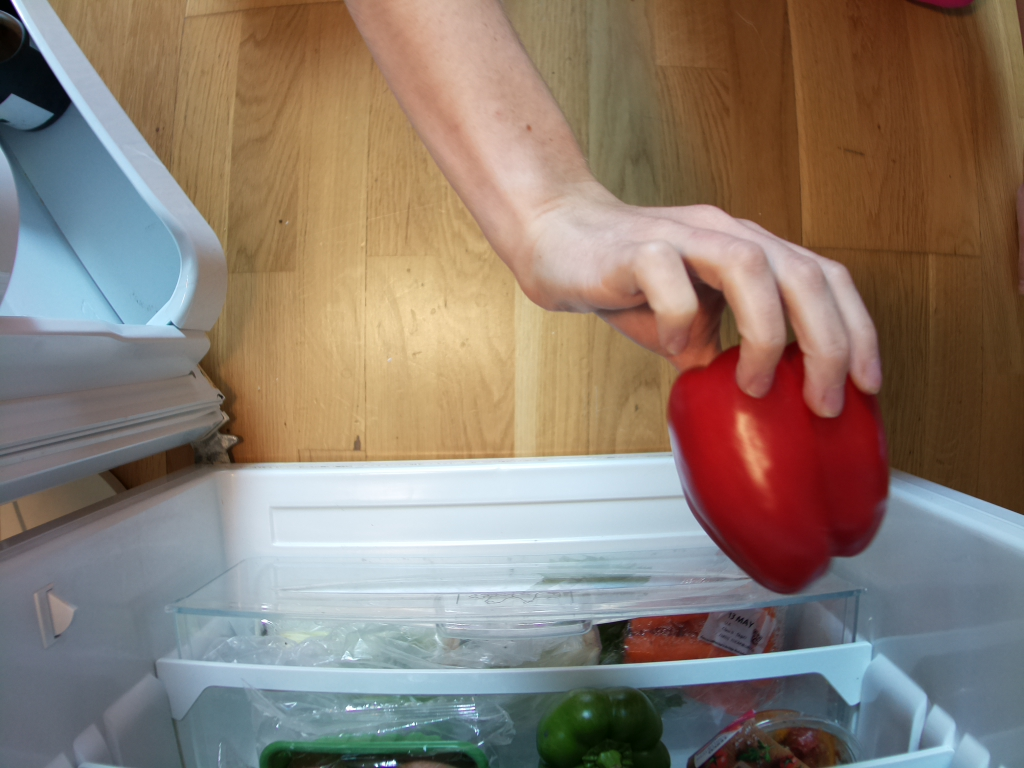pepper: (667, 332, 892, 598), (534, 683, 672, 768)
